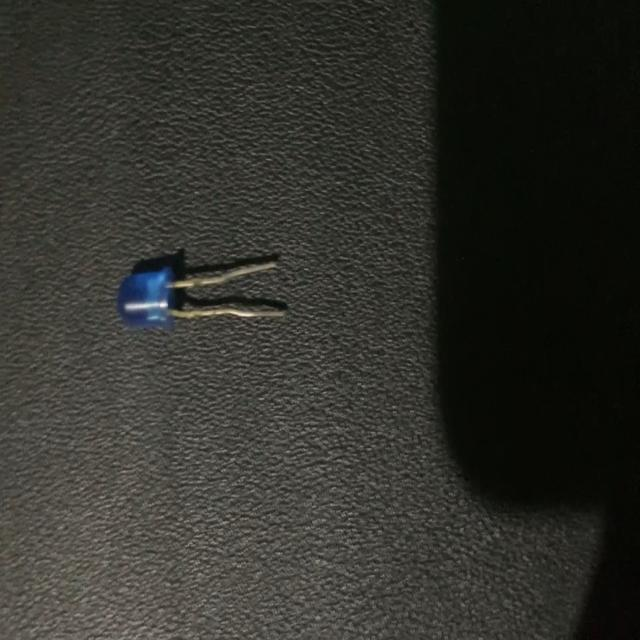LED: (112, 255, 288, 328)
